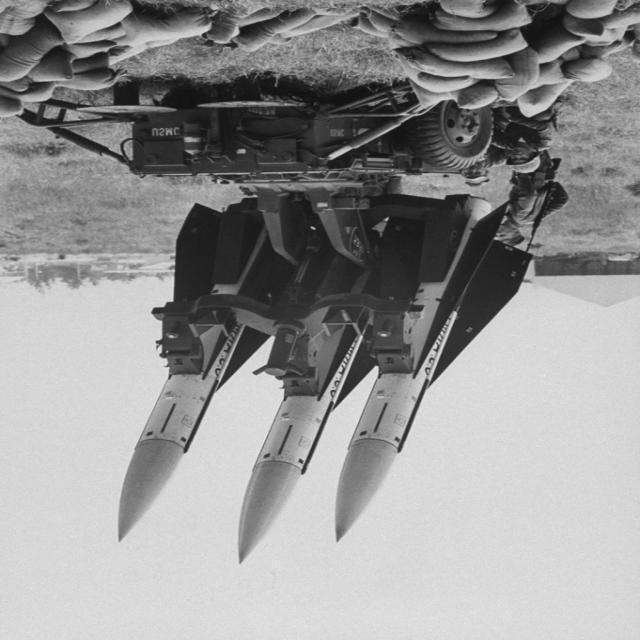missile: (328, 276, 460, 541), (232, 283, 354, 561), (113, 280, 215, 541)
